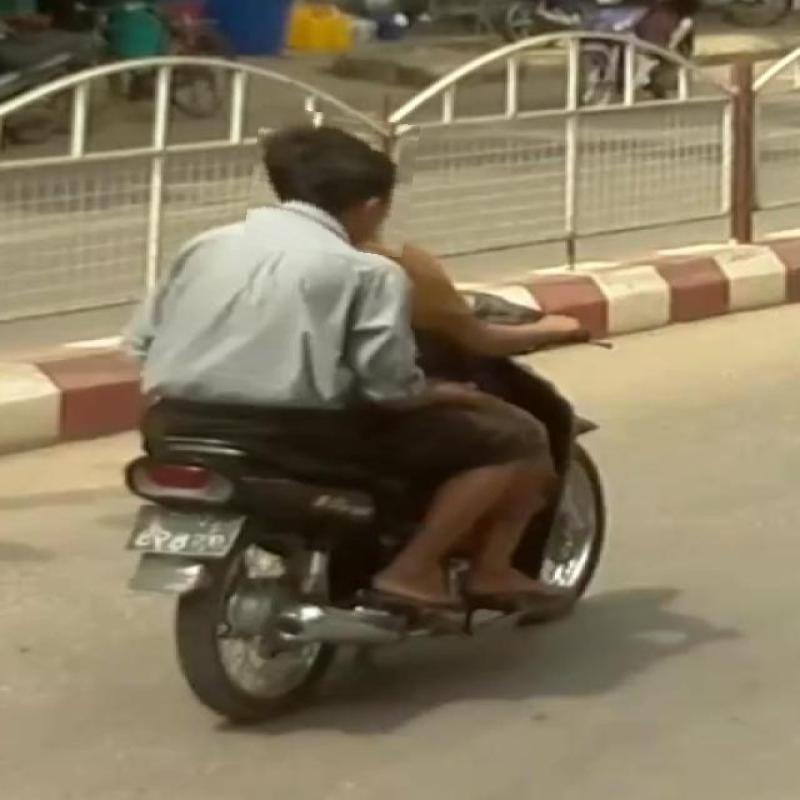nohelmet: (249, 109, 416, 252)
